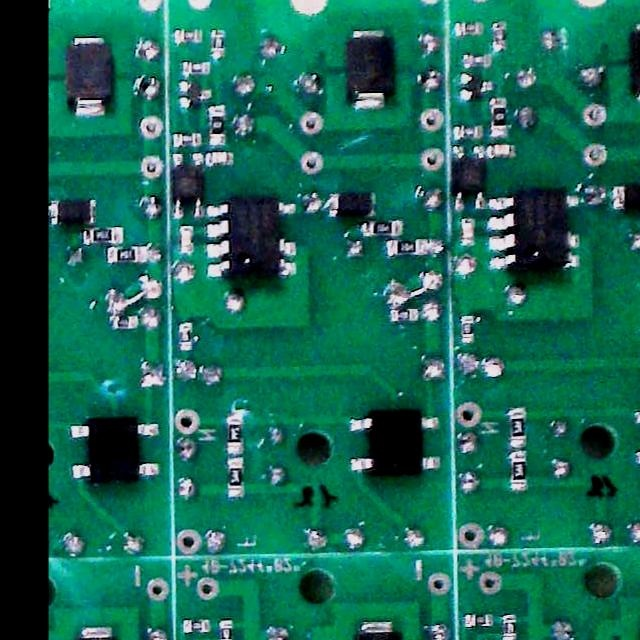chip-capacitor: (180, 226, 194, 254), (207, 152, 233, 165), (462, 218, 474, 244), (491, 144, 514, 155)
chip-resistor: (81, 226, 124, 245), (386, 238, 425, 255), (208, 105, 225, 143), (106, 246, 146, 262), (228, 457, 244, 496), (228, 417, 244, 454), (367, 220, 402, 236), (492, 98, 506, 136), (511, 409, 525, 443), (512, 451, 525, 487), (211, 29, 225, 59), (113, 314, 139, 330), (174, 29, 202, 43), (182, 61, 210, 75), (179, 322, 193, 350), (503, 614, 517, 640), (183, 618, 209, 632), (174, 133, 201, 146), (493, 23, 506, 50), (464, 54, 491, 67), (391, 308, 417, 321), (466, 612, 492, 625), (454, 126, 482, 138), (456, 22, 482, 34), (220, 618, 233, 640), (462, 316, 473, 340)
diode: (65, 35, 115, 118), (344, 30, 395, 111), (49, 198, 96, 225), (330, 192, 376, 217), (612, 185, 640, 209)
ic: (204, 195, 296, 278), (488, 189, 579, 271), (349, 409, 439, 476), (72, 416, 160, 483), (453, 145, 487, 211), (172, 151, 204, 218)
transistor: (460, 72, 495, 100), (179, 80, 212, 108)
